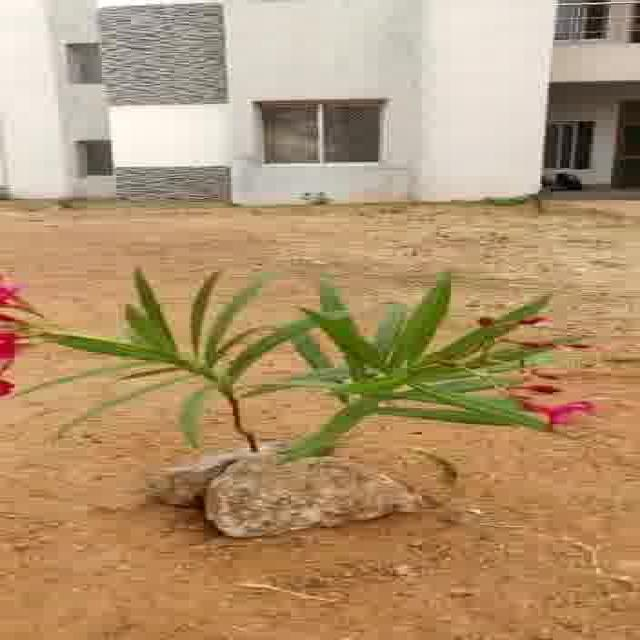Oleander: (0, 270, 611, 452)
